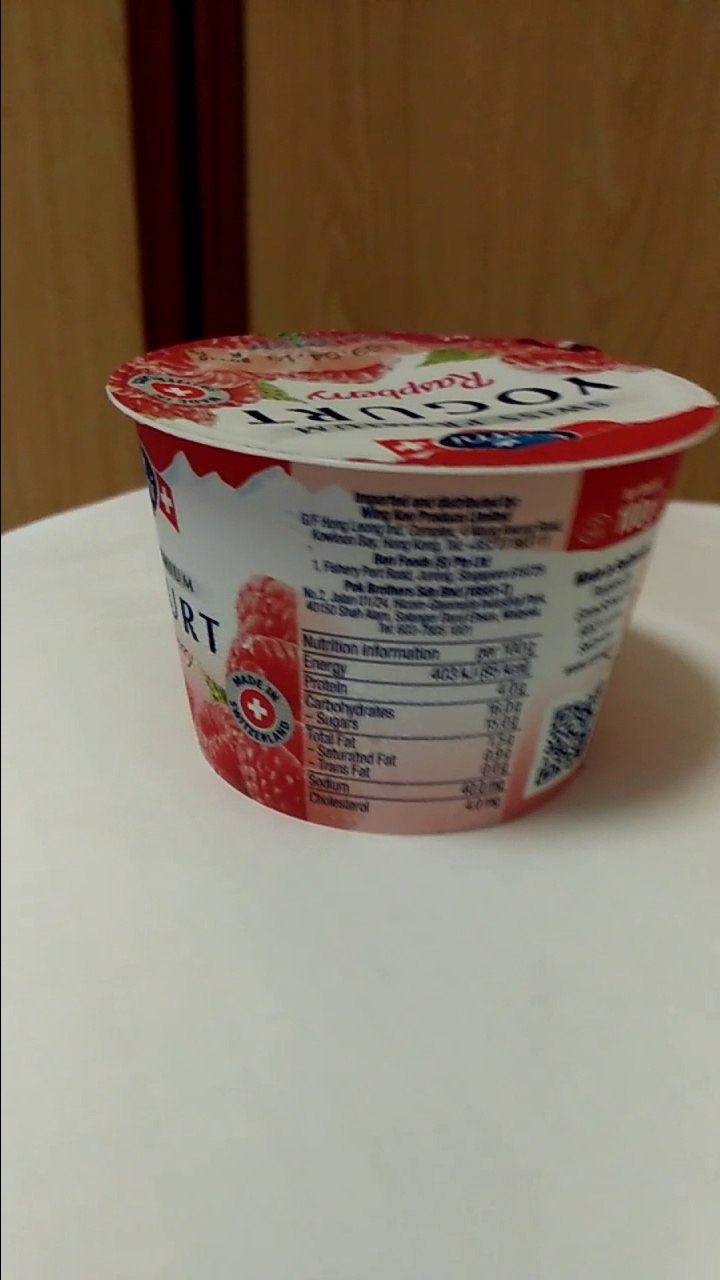yogurt: (133, 325, 701, 835)
